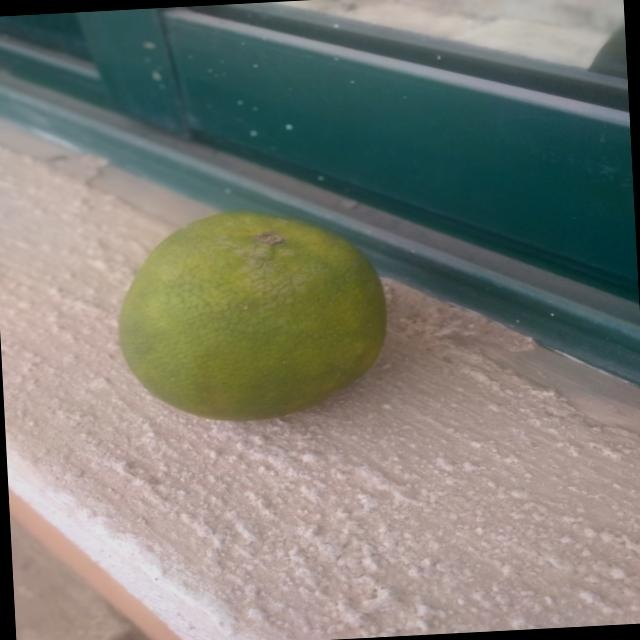agrume: (109, 190, 421, 438)
